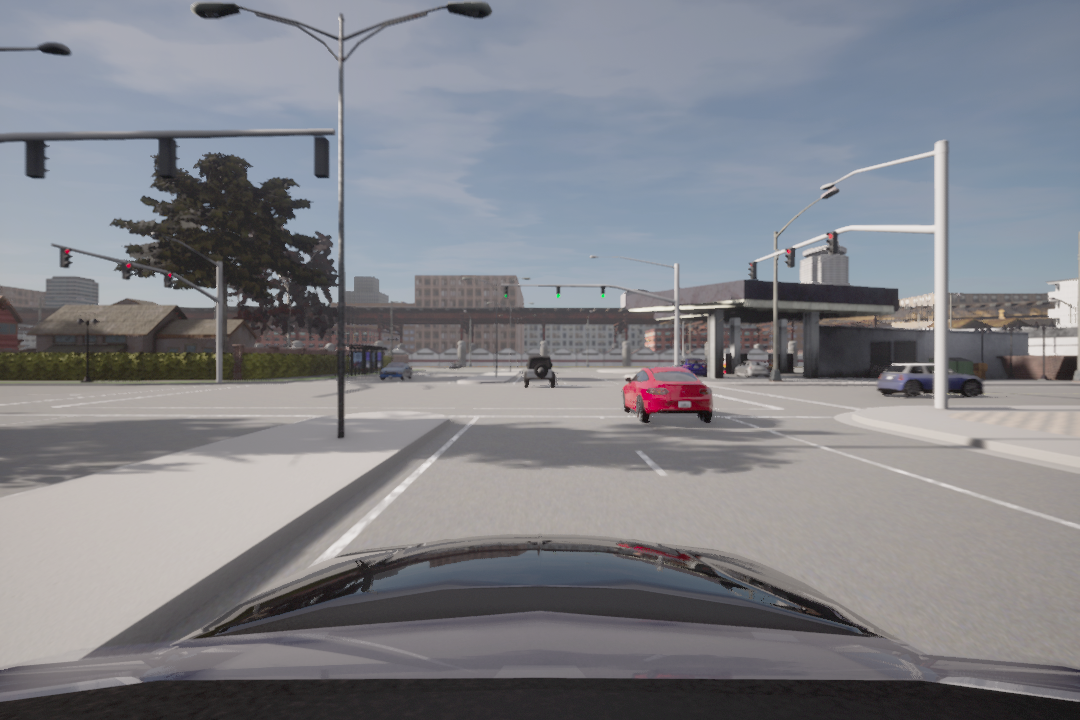TrafficLight: (57, 244, 74, 269), (821, 231, 838, 256), (784, 244, 796, 272), (161, 267, 176, 288), (747, 259, 758, 284), (121, 258, 131, 281), (599, 284, 609, 299), (500, 284, 509, 300), (554, 284, 561, 298)
